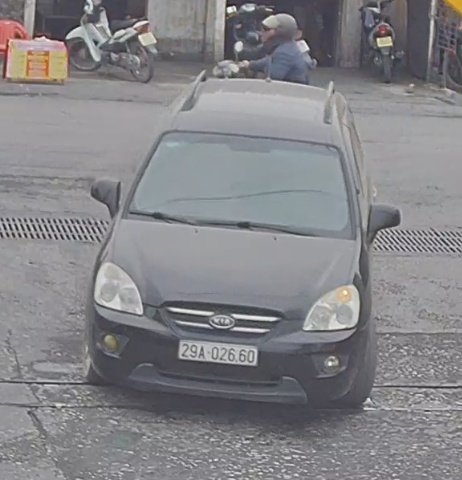vehicle plate: (171, 332, 262, 364)
